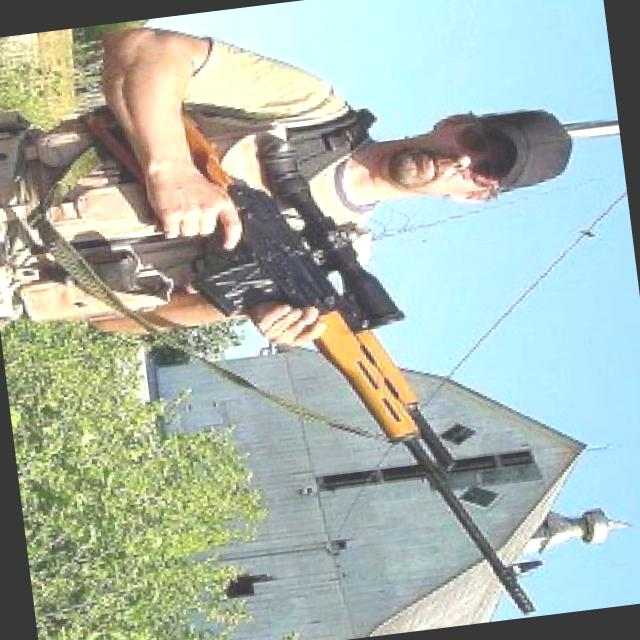long weapon: (72, 20, 565, 639)
